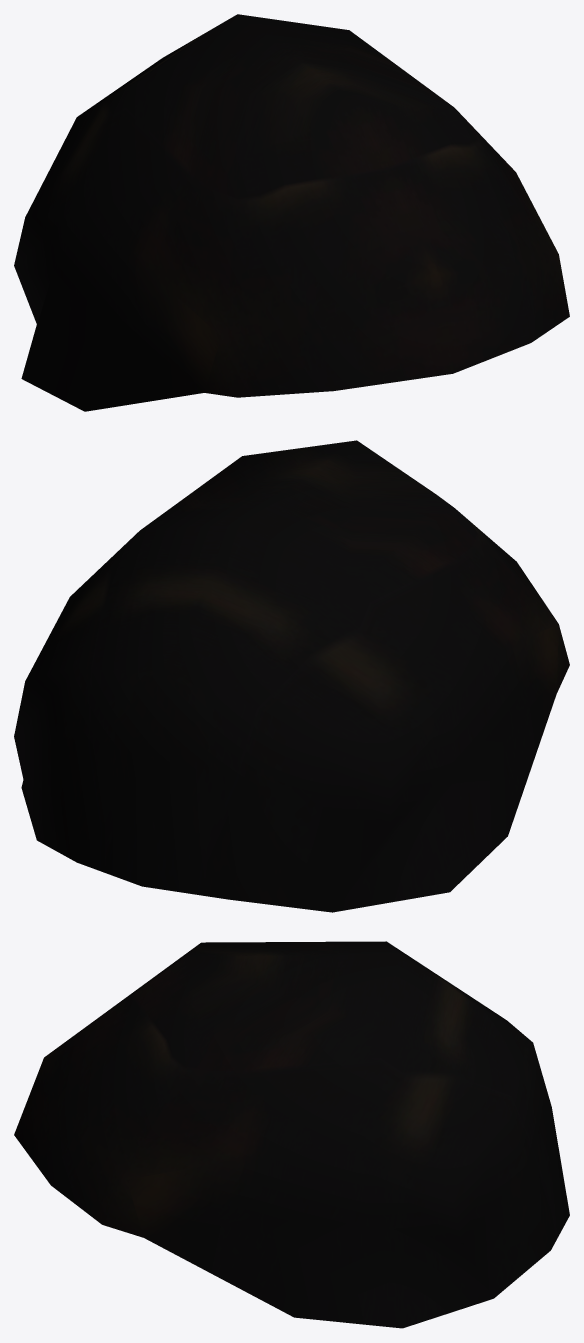
The model's file is hair_tupi_m.dae.
3 renders of one model, top to bottom at view 1: azimuth 30°, elevation 25°; view 2: azimuth 150°, elevation 25°; view 3: azimuth 270°, elevation 25°, orthographic. The views are drawn at different scales.
Visible parts, largest first — view 1: hair_tupi; view 2: hair_tupi; view 3: hair_tupi.
Boxes of the visible parts, x1,y1,x2,y2 form: hair_tupi: (14,14,569,411); hair_tupi: (14,440,569,912); hair_tupi: (14,941,569,1328).
Bounding box in the file's own units: 0.4341 × 0.5458 × 0.3037.
